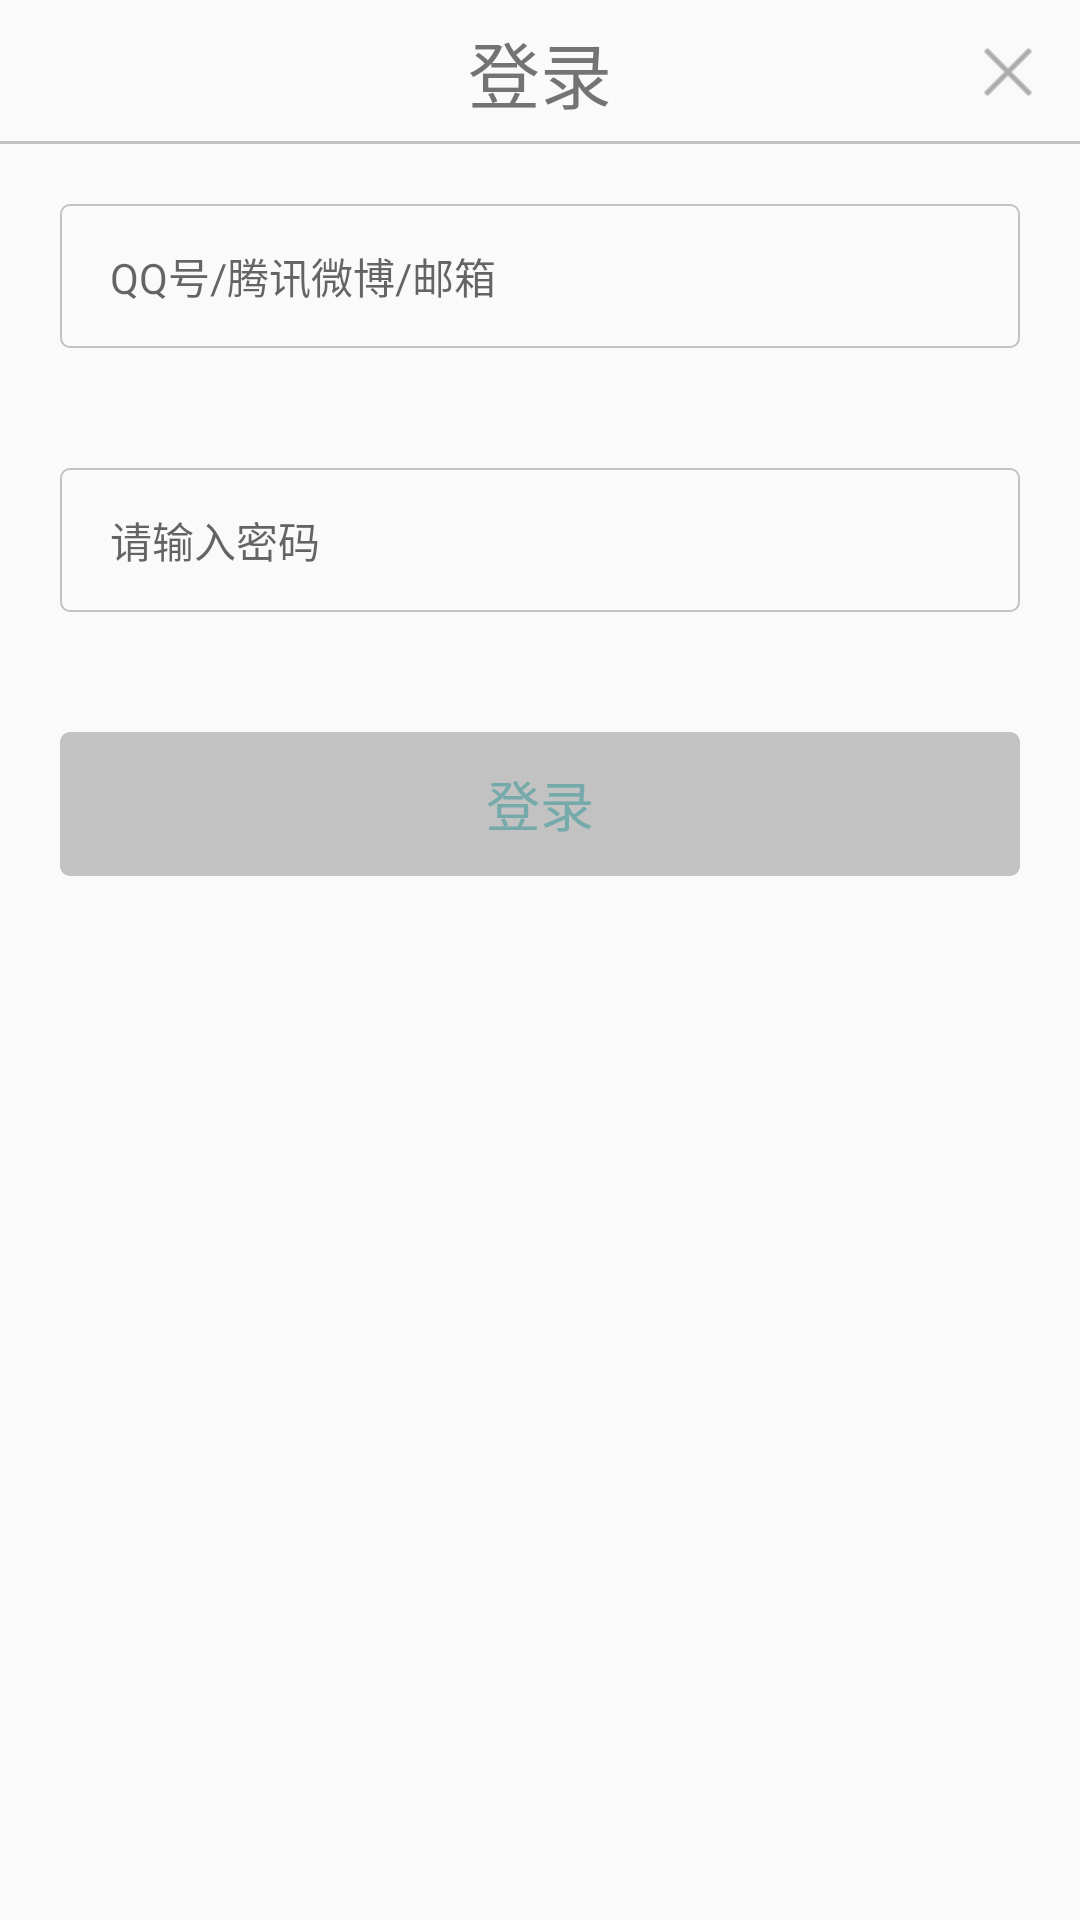

Where icons sit on this 1080w x 1920h app screen, as (x1, y1, x2, y2):
promptbox close: (984, 48, 1032, 96)
